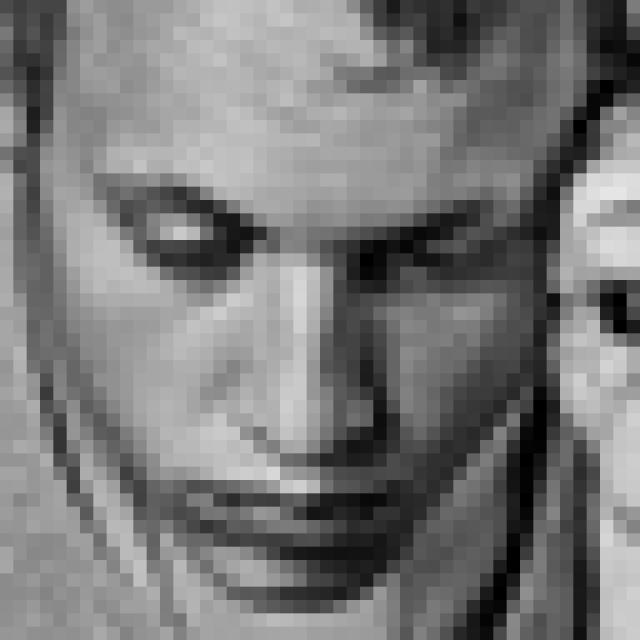sad: (70, 167, 523, 563)
